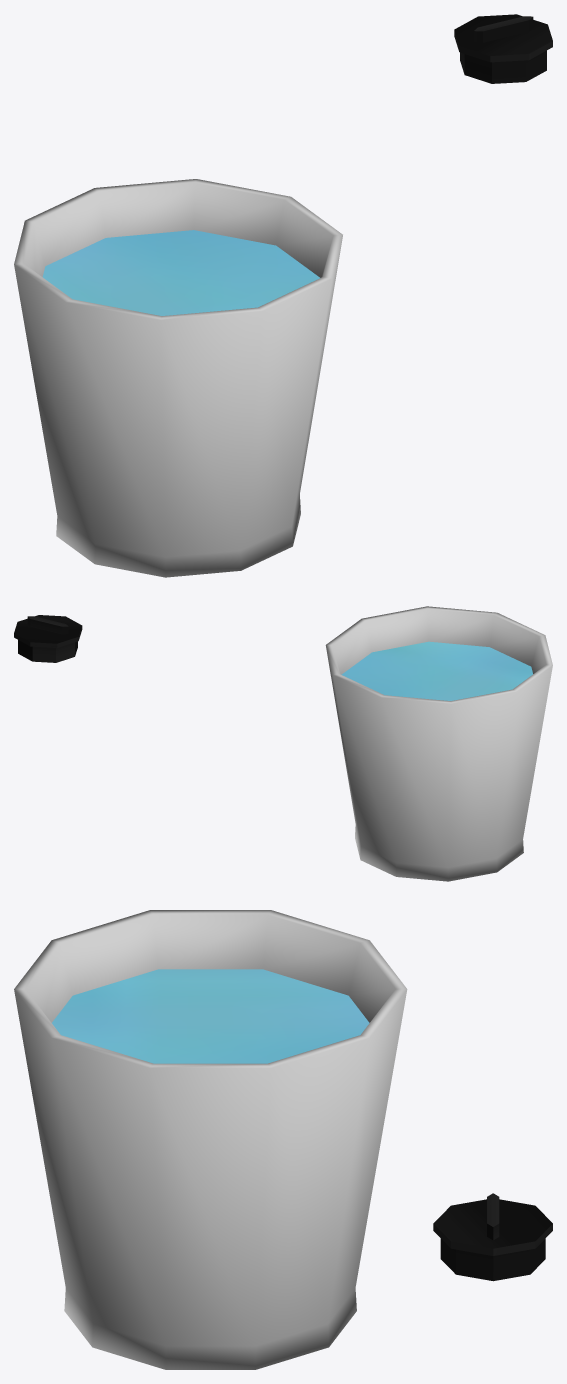
Rendered from GlassNPlug.fbx.
3 renders of one model, top to bottom at view 1: azimuth 30°, elevation 25°; view 2: azimuth 150°, elevation 25°; view 3: azimuth 270°, elevation 25°, orthographic. The views are drawn at different scales.
Parts seen in each view (by area): view 1: Cup_Base, Cup_Water, SinkPlug; view 2: Cup_Base, Cup_Water, SinkPlug; view 3: Cup_Base, Cup_Water, SinkPlug.
Boxes of the visible parts, box(x1,y1,x2,y2) form: Cup_Base: box(14, 179, 342, 577); Cup_Water: box(42, 230, 319, 315); SinkPlug: box(454, 14, 552, 83); Cup_Base: box(325, 606, 552, 881); Cup_Water: box(341, 641, 532, 700); SinkPlug: box(14, 615, 82, 662); Cup_Base: box(14, 910, 407, 1369); Cup_Water: box(52, 969, 369, 1063); SinkPlug: box(433, 1193, 552, 1281).
Bounding box in the file's own units: 602 × 278 × 383.
